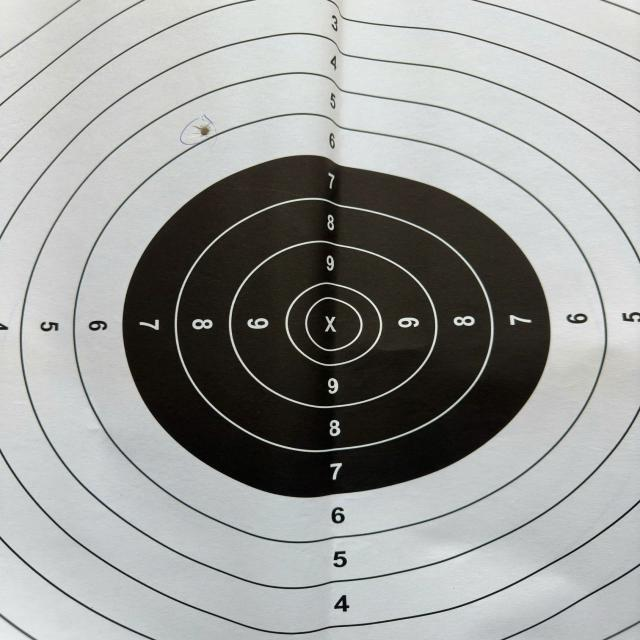bullet: (198, 125, 211, 135)
target: (0, 0, 640, 640)
